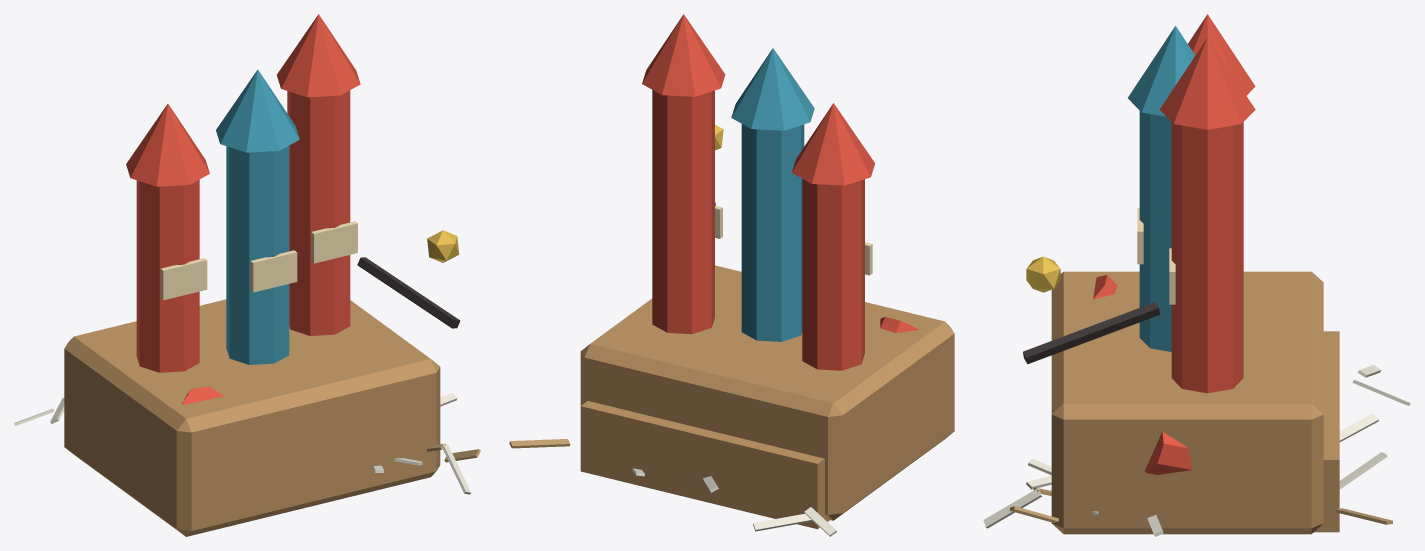
Rendered from sm_cargo_content_fireworks_crate.glb.
3 renders of one model, left to right at view 1: azimuth 30°, elevation 25°; view 2: azimuth 150°, elevation 25°; view 3: azimuth 270°, elevation 25°, orthographic. The views are drawn at different scales.
Parts seen in each view (by area): view 1: Intact, Damage, Filler; view 2: Intact, Ruined, Filler; view 3: Intact, Ruined, Filler, Damage.
Part boxes in pixels (left/top/right/bottom): Intact: left=64, top=14, right=440, bottom=536; Damage: left=357, top=230, right=460, bottom=328; Filler: left=14, top=393, right=480, bottom=494; Intact: left=580, top=14, right=954, bottom=520; Ruined: left=580, top=316, right=918, bottom=529; Filler: left=509, top=439, right=836, bottom=536; Intact: left=1051, top=14, right=1323, bottom=534; Ruined: left=1093, top=275, right=1339, bottom=532; Filler: left=983, top=365, right=1410, bottom=536; Damage: left=1023, top=256, right=1159, bottom=364.
Size of the model in its own units: 0.5468 by 0.6839 by 0.5337.
